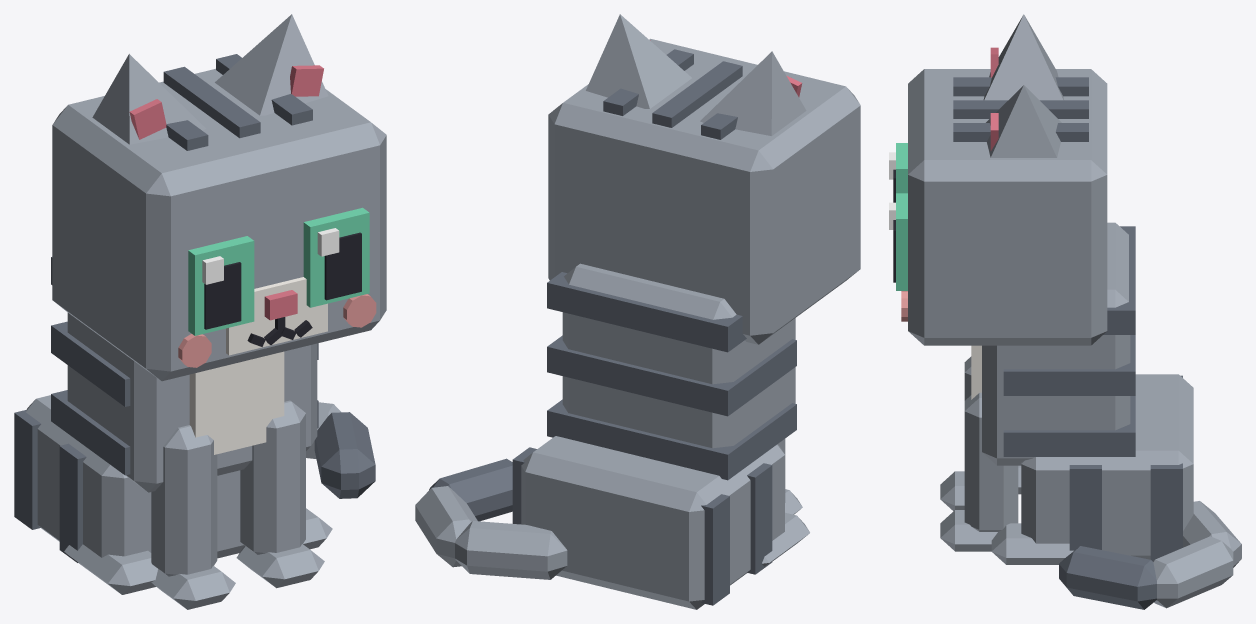
Rendered from CleanACat_Cat_Smudge_Sit.fbx.
3 views of the same model, side by side, from view 1: azimuth 30°, elevation 25°; view 2: azimuth 150°, elevation 25°; view 3: azimuth 270°, elevation 25° (orthographic). The views are drawn at different scales.
Parts seen in each view (by area): view 1: CleanACat_Cat_Smudge_Sit_Head, CleanACat_Cat_Smudge_Sit_Body, CleanACat_Cat_Smudge_Sit_LegF2, CleanACat_Cat_Smudge_Sit_LegF1, CleanACat_Cat_Smudge_Sit_EarL, CleanACat_Cat_Smudge_Sit_Eye2, CleanACat_Cat_Smudge_Sit_Eye1, CleanACat_Cat_Smudge_Sit_EarR, CleanACat_Cat_Smudge_Sit_Tail; view 2: CleanACat_Cat_Smudge_Sit_Body, CleanACat_Cat_Smudge_Sit_Head, CleanACat_Cat_Smudge_Sit_Tail, CleanACat_Cat_Smudge_Sit_EarL, CleanACat_Cat_Smudge_Sit_EarR; view 3: CleanACat_Cat_Smudge_Sit_Head, CleanACat_Cat_Smudge_Sit_Body, CleanACat_Cat_Smudge_Sit_Tail, CleanACat_Cat_Smudge_Sit_LegF1, CleanACat_Cat_Smudge_Sit_EarR, CleanACat_Cat_Smudge_Sit_EarL, CleanACat_Cat_Smudge_Sit_Eye1, CleanACat_Cat_Smudge_Sit_LegF2, CleanACat_Cat_Smudge_Sit_Eye2.
Part boxes in pixels (left/top/right/bottom): CleanACat_Cat_Smudge_Sit_Head: left=52, top=54, right=386, bottom=381; CleanACat_Cat_Smudge_Sit_Body: left=14, top=257, right=332, bottom=594; CleanACat_Cat_Smudge_Sit_LegF2: left=151, top=425, right=235, bottom=609; CleanACat_Cat_Smudge_Sit_LegF1: left=236, top=400, right=324, bottom=588; CleanACat_Cat_Smudge_Sit_EarL: left=215, top=14, right=328, bottom=115; CleanACat_Cat_Smudge_Sit_Eye2: left=188, top=236, right=254, bottom=335; CleanACat_Cat_Smudge_Sit_Eye1: left=303, top=207, right=369, bottom=307; CleanACat_Cat_Smudge_Sit_EarR: left=92, top=54, right=206, bottom=144; CleanACat_Cat_Smudge_Sit_Tail: left=306, top=402, right=375, bottom=498; CleanACat_Cat_Smudge_Sit_Body: left=512, top=263, right=809, bottom=609; CleanACat_Cat_Smudge_Sit_Head: left=548, top=38, right=860, bottom=344; CleanACat_Cat_Smudge_Sit_Tail: left=415, top=458, right=567, bottom=579; CleanACat_Cat_Smudge_Sit_EarL: left=586, top=14, right=691, bottom=108; CleanACat_Cat_Smudge_Sit_EarR: left=700, top=51, right=806, bottom=135; CleanACat_Cat_Smudge_Sit_Head: left=901, top=69, right=1107, bottom=345; CleanACat_Cat_Smudge_Sit_Body: left=971, top=222, right=1193, bottom=564; CleanACat_Cat_Smudge_Sit_Tail: left=1059, top=501, right=1241, bottom=609; CleanACat_Cat_Smudge_Sit_LegF1: left=940, top=392, right=1018, bottom=551; CleanACat_Cat_Smudge_Sit_EarR: left=983, top=14, right=1063, bottom=100; CleanACat_Cat_Smudge_Sit_EarL: left=986, top=85, right=1061, bottom=157; CleanACat_Cat_Smudge_Sit_Eye1: left=889, top=193, right=907, bottom=290; CleanACat_Cat_Smudge_Sit_LegF2: left=940, top=356, right=971, bottom=510; CleanACat_Cat_Smudge_Sit_Eye2: left=889, top=143, right=907, bottom=202.
Bounding box in the file's own units: 1.24 × 1.85 × 1.24.
Materials: 1 (1 with a texture image).
